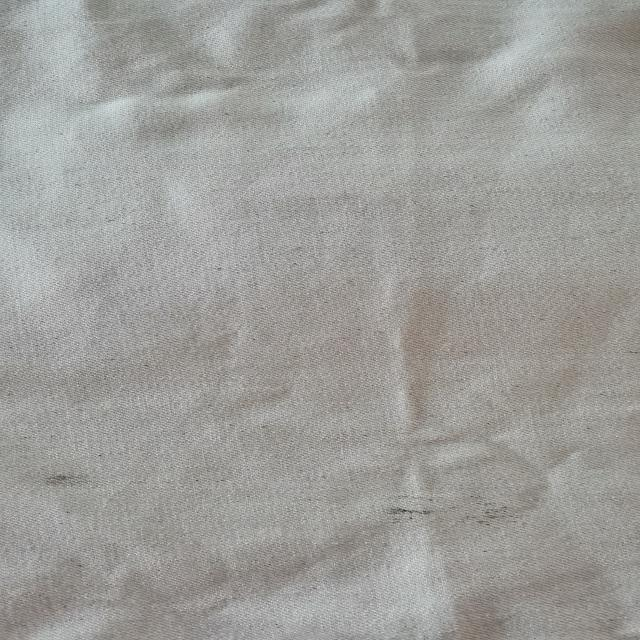taaaches: (373, 491, 528, 532), (31, 464, 104, 499)
